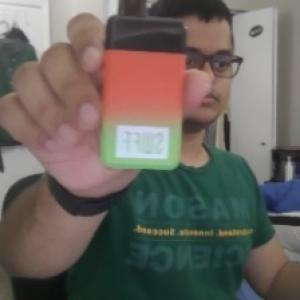Swift-E-Ciggirate: (96, 5, 192, 174)
